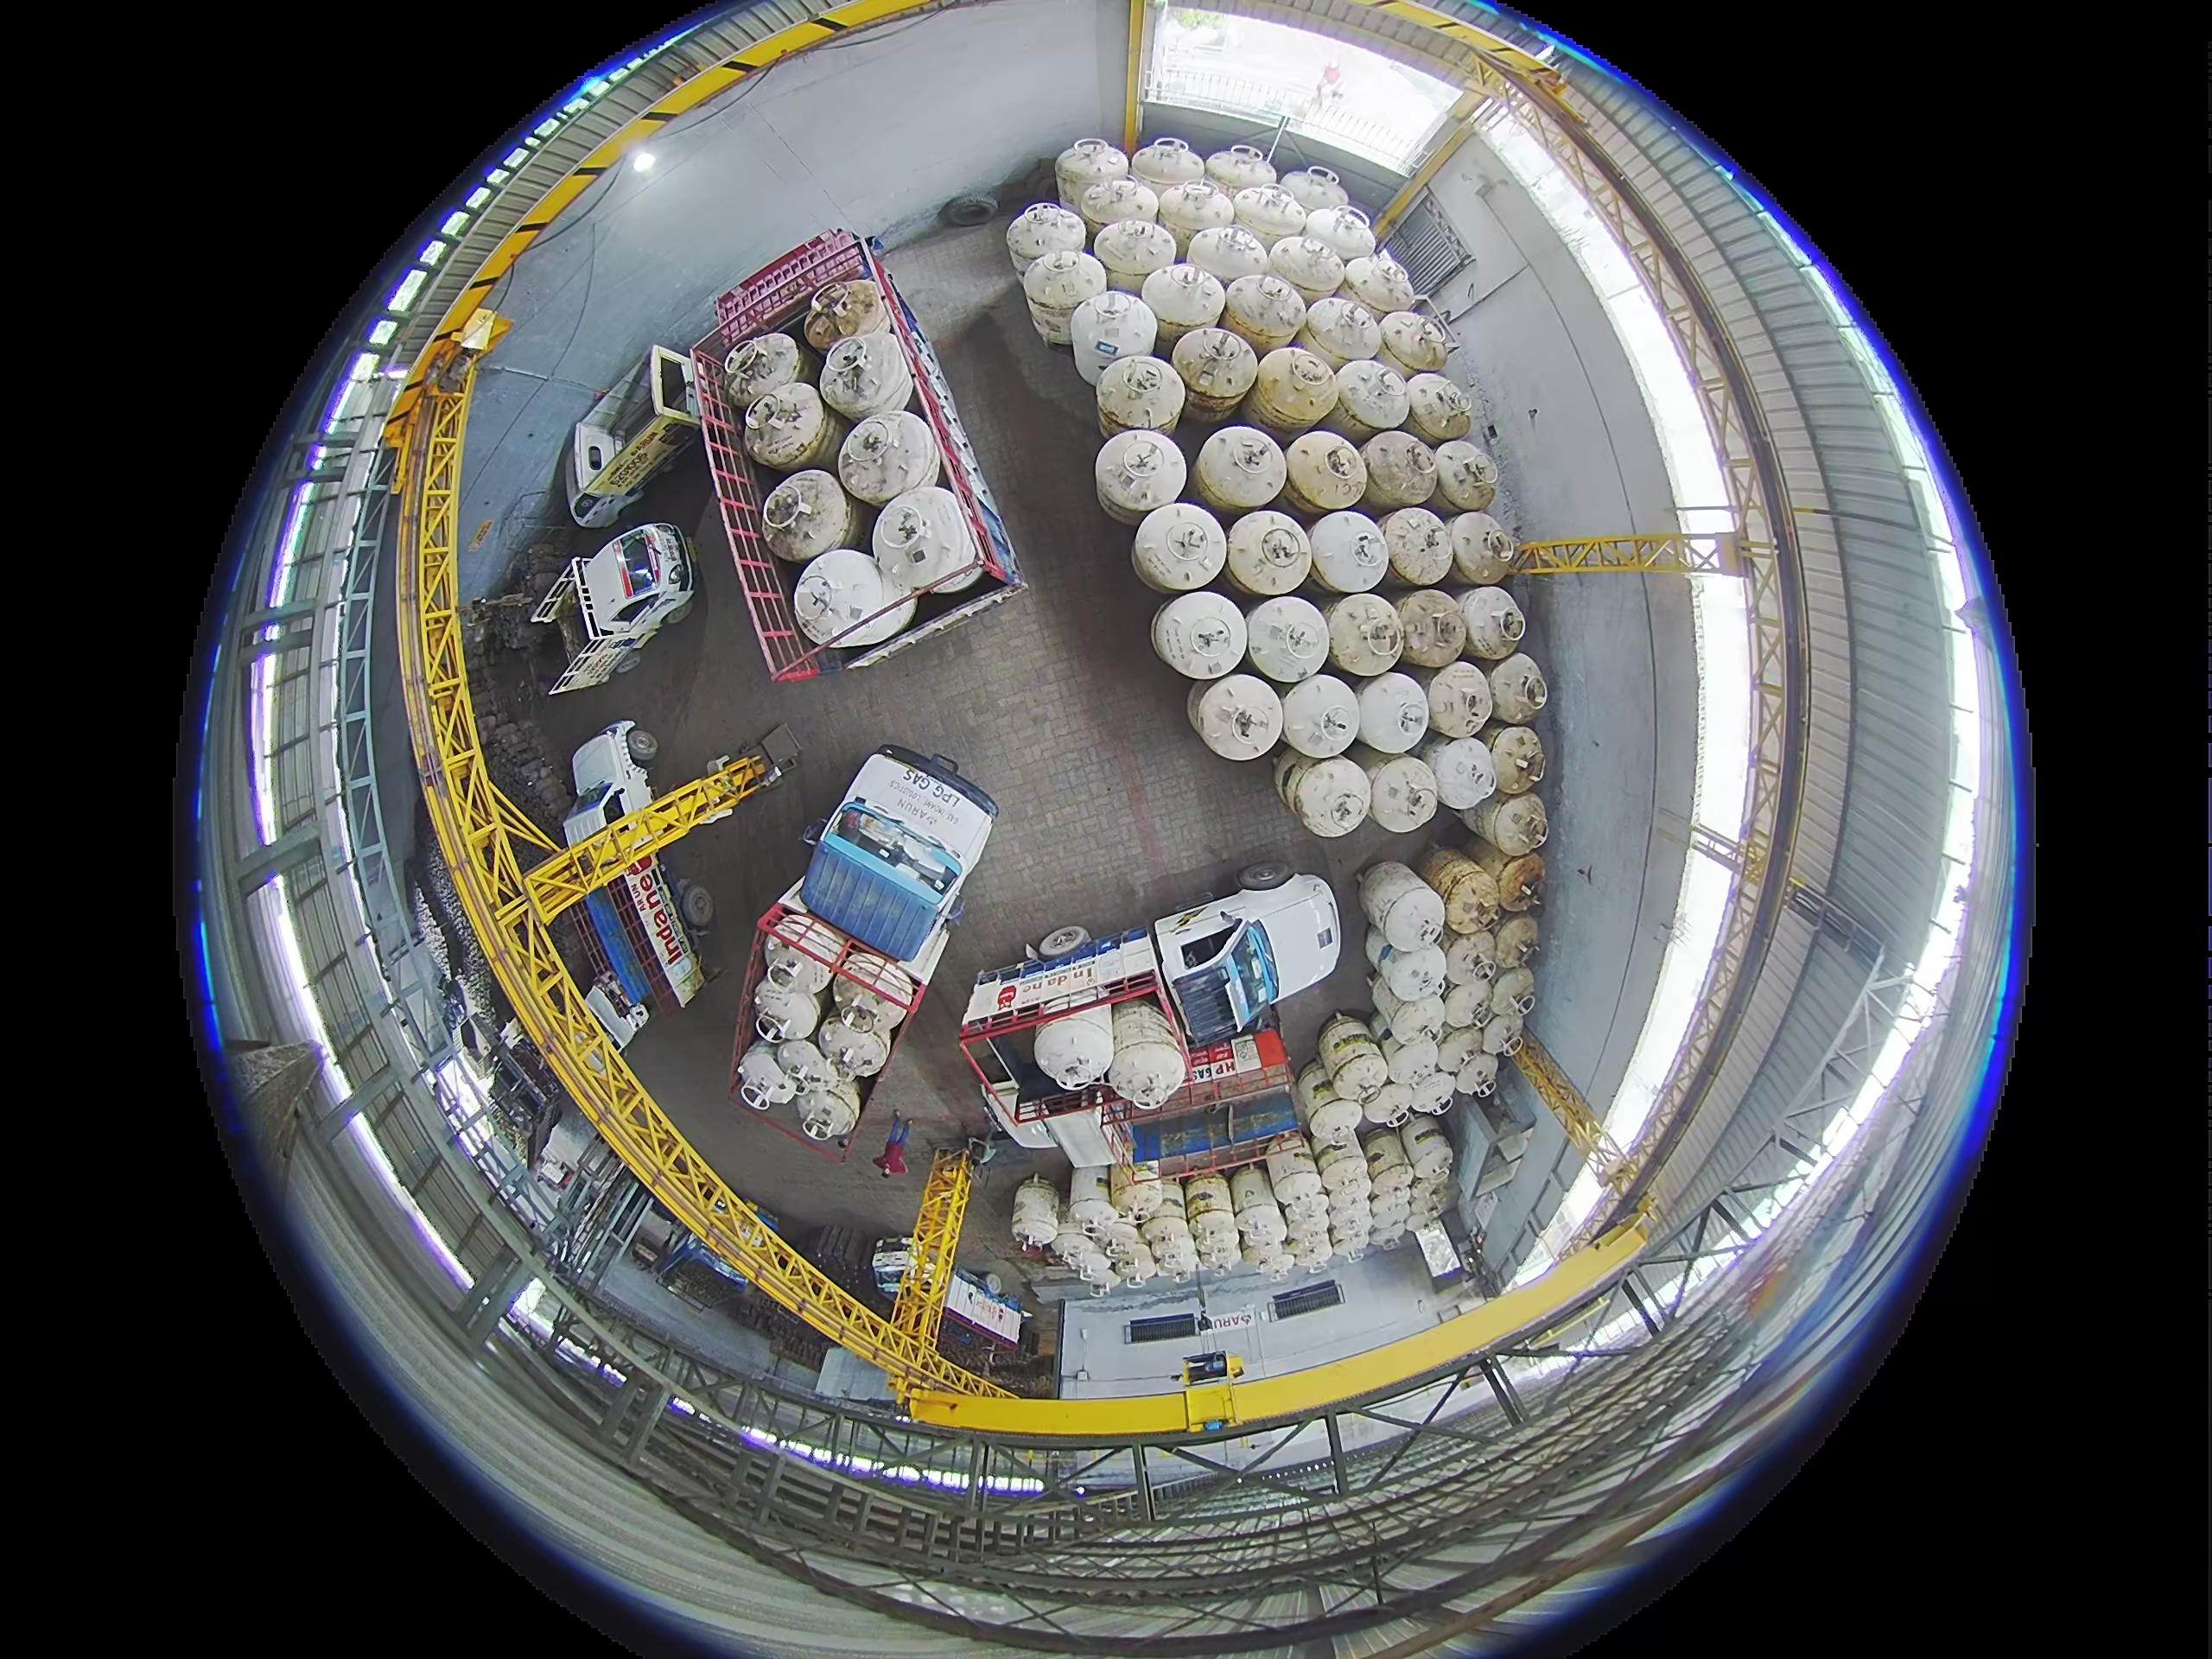cylinder: (871, 484, 981, 592), (792, 547, 900, 650), (836, 410, 942, 505), (813, 329, 914, 423), (759, 469, 855, 565), (1132, 502, 1228, 596), (1150, 589, 1247, 681), (1096, 429, 1186, 525), (1188, 671, 1284, 762), (742, 380, 834, 471), (1195, 425, 1287, 514), (1355, 859, 1447, 948), (1252, 345, 1343, 434), (1224, 509, 1313, 598), (1019, 251, 1101, 345), (1242, 596, 1329, 683), (1306, 509, 1393, 596), (1284, 430, 1369, 518), (1221, 272, 1308, 357), (1069, 293, 1151, 383), (1096, 354, 1181, 439), (1278, 673, 1364, 758), (1170, 326, 1258, 410), (1285, 755, 1374, 836), (1141, 261, 1224, 343), (1325, 594, 1407, 676), (721, 331, 803, 411), (1421, 847, 1501, 929), (1362, 430, 1440, 514), (1033, 1011, 1111, 1094), (803, 275, 888, 350), (1355, 673, 1433, 753), (1381, 505, 1458, 587), (1393, 589, 1470, 669), (1331, 359, 1411, 434), (1303, 295, 1383, 369), (1188, 221, 1273, 291), (1366, 755, 1440, 833), (1157, 179, 1235, 254), (1425, 659, 1498, 739), (1425, 734, 1498, 812), (1264, 232, 1345, 303), (1094, 216, 1174, 286), (1456, 586, 1529, 660), (1055, 138, 1130, 211), (1007, 200, 1083, 272), (1109, 1040, 1188, 1110), (1082, 174, 1160, 242), (1468, 788, 1548, 854), (1449, 511, 1521, 584), (1400, 371, 1470, 444), (1129, 138, 1205, 204), (1465, 829, 1541, 896), (1231, 185, 1310, 249), (833, 965, 911, 1030), (1432, 439, 1501, 511), (1378, 310, 1453, 376), (1303, 204, 1378, 270), (752, 978, 822, 1046), (1376, 943, 1446, 1009), (1484, 652, 1548, 723), (1343, 253, 1416, 315), (1322, 1037, 1390, 1103), (820, 1014, 890, 1079), (1484, 725, 1547, 796), (1109, 1000, 1183, 1061), (1379, 1035, 1444, 1101), (735, 1044, 798, 1108), (1205, 145, 1278, 199), (1010, 1175, 1062, 1249), (761, 943, 831, 999), (798, 1084, 860, 1145), (1371, 978, 1435, 1037), (1442, 931, 1501, 993), (1280, 166, 1350, 218), (773, 1039, 834, 1098), (1143, 1218, 1198, 1281), (1306, 1091, 1367, 1147), (1294, 1058, 1341, 1129), (1324, 1188, 1372, 1255), (1439, 976, 1494, 1033), (1399, 1115, 1451, 1176), (1435, 1023, 1489, 1080), (1190, 1213, 1242, 1272), (1068, 1162, 1116, 1223), (1233, 1204, 1287, 1258), (1181, 1173, 1237, 1225), (1266, 1147, 1318, 1201), (1108, 1161, 1158, 1216), (1493, 915, 1541, 972), (1282, 1222, 1334, 1274), (1230, 1166, 1280, 1220), (1487, 964, 1536, 1019), (1480, 1009, 1531, 1061), (1280, 1185, 1332, 1236), (1359, 1080, 1413, 1129), (1271, 751, 1313, 814), (1360, 1129, 1411, 1180), (1317, 1154, 1371, 1201), (1125, 1180, 1183, 1223), (1366, 1188, 1413, 1241), (1407, 1148, 1453, 1202), (1066, 1241, 1116, 1288), (1454, 1047, 1500, 1100), (1094, 1215, 1146, 1260), (1404, 1185, 1449, 1230), (1050, 1225, 1094, 1267), (1109, 1248, 1155, 1286), (1038, 925, 1089, 958)
truck: (691, 228, 1021, 681), (960, 875, 1343, 1112), (801, 746, 996, 992), (524, 533, 719, 671), (585, 857, 704, 1014), (554, 371, 695, 500), (563, 721, 653, 843)
